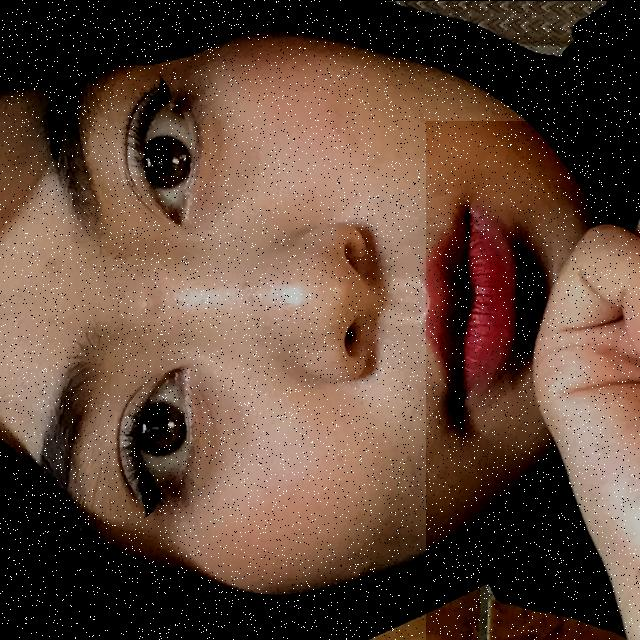sedih: (426, 120, 640, 640)
